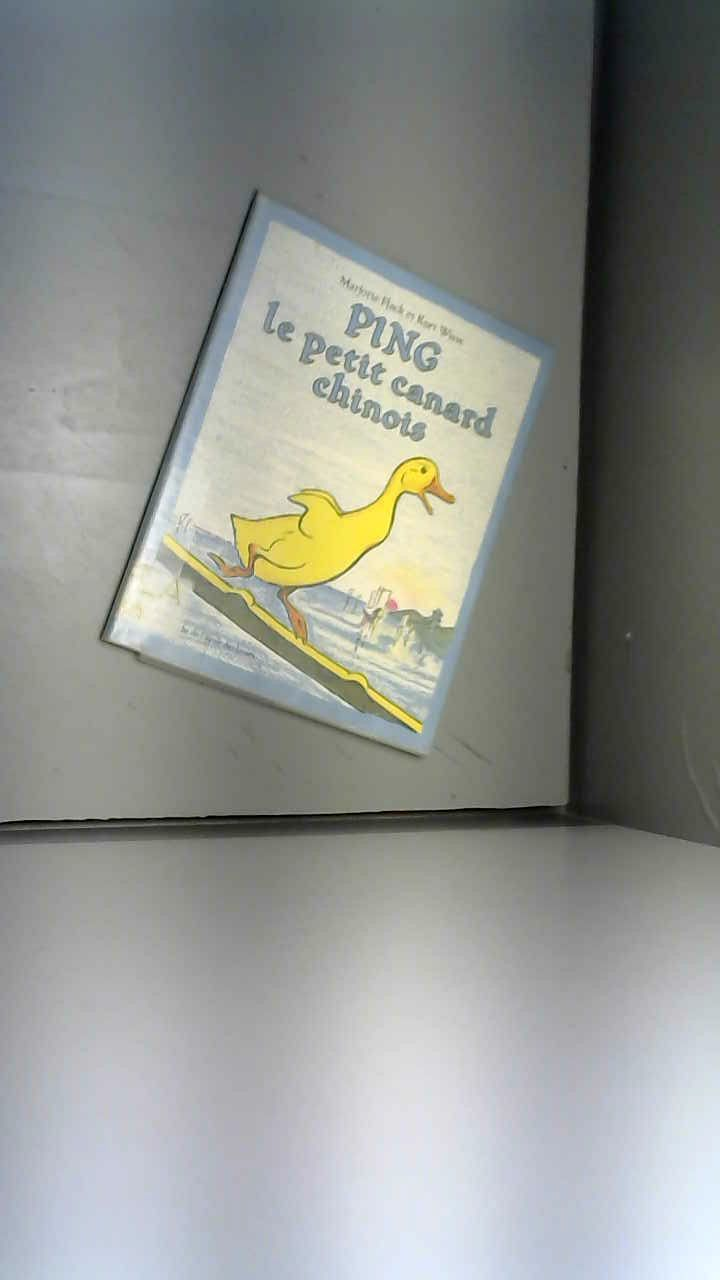book: (89, 176, 566, 773)
